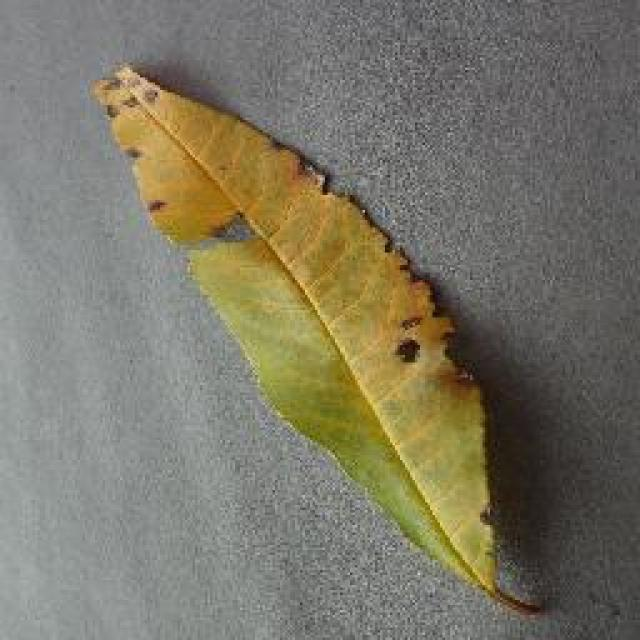Peach_Bacterial_Spot: (81, 40, 462, 367)
